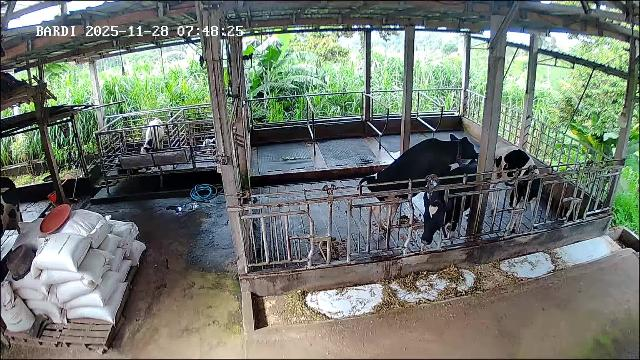mounting: (369, 133, 478, 243)
